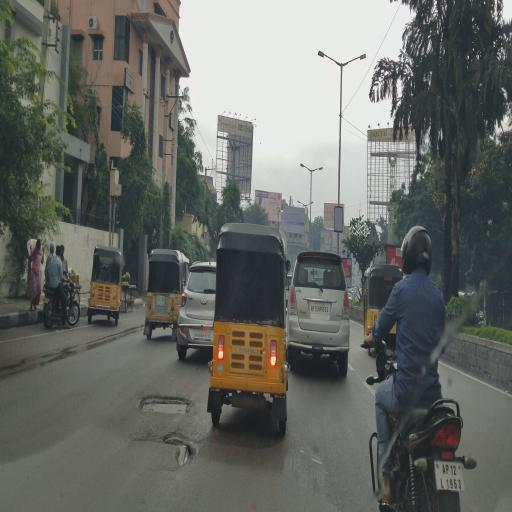street_light_0: (307, 40, 345, 76), (339, 32, 370, 76), (309, 154, 329, 178), (289, 190, 306, 216), (291, 156, 315, 170), (302, 194, 316, 218)
